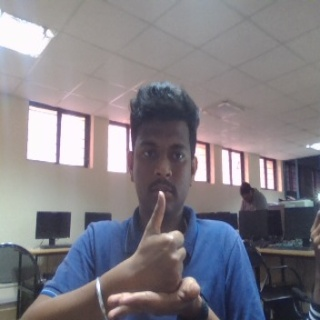Help: (104, 188, 199, 319)
